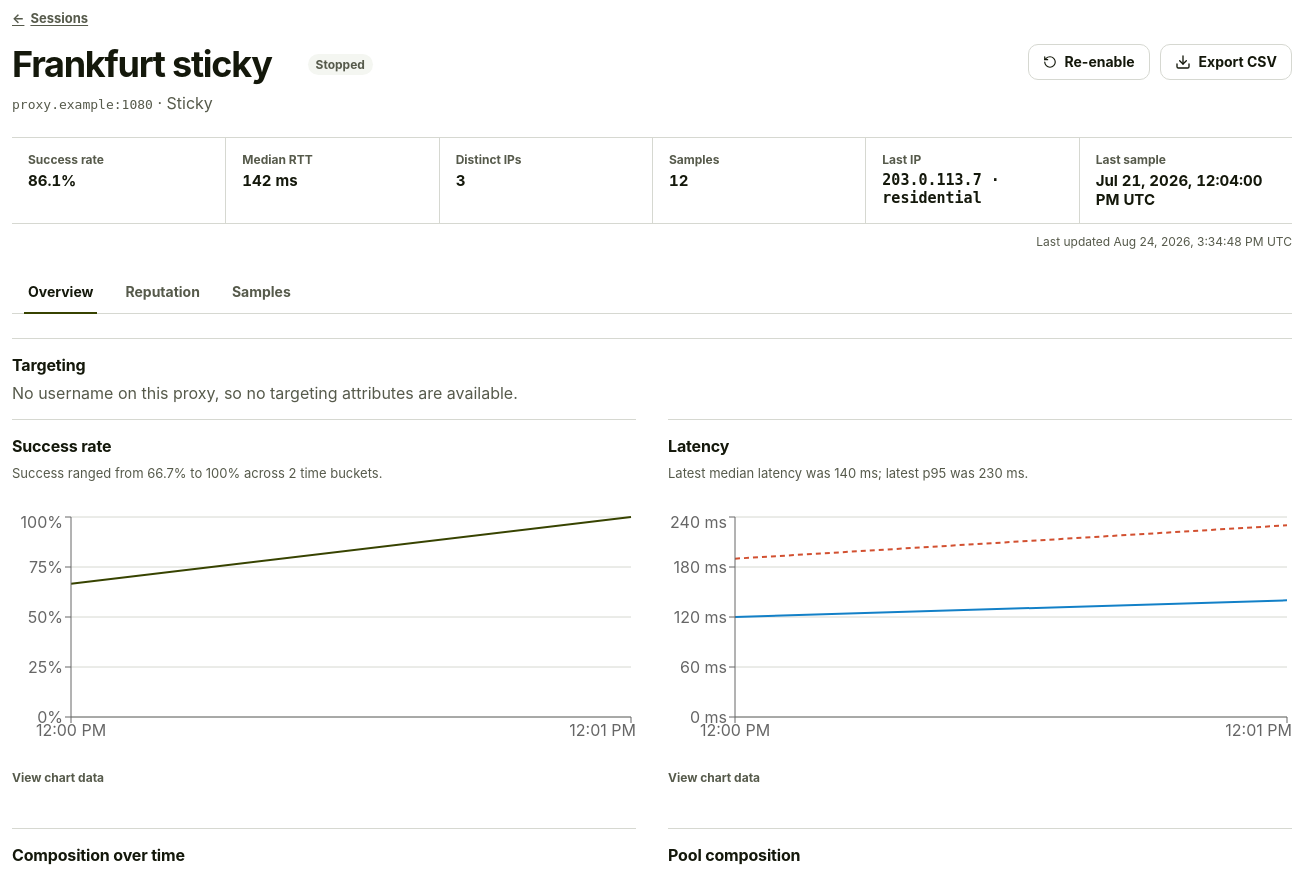
SessionPage › offers re-enable for a stopped session, confirms, and invalidates queries
What coordinates should you click on to do the following:
click the button "Re-enable"
I would click on:
 (1089, 62)
Its box is top-left (1028, 44), bottom-right (1150, 80).
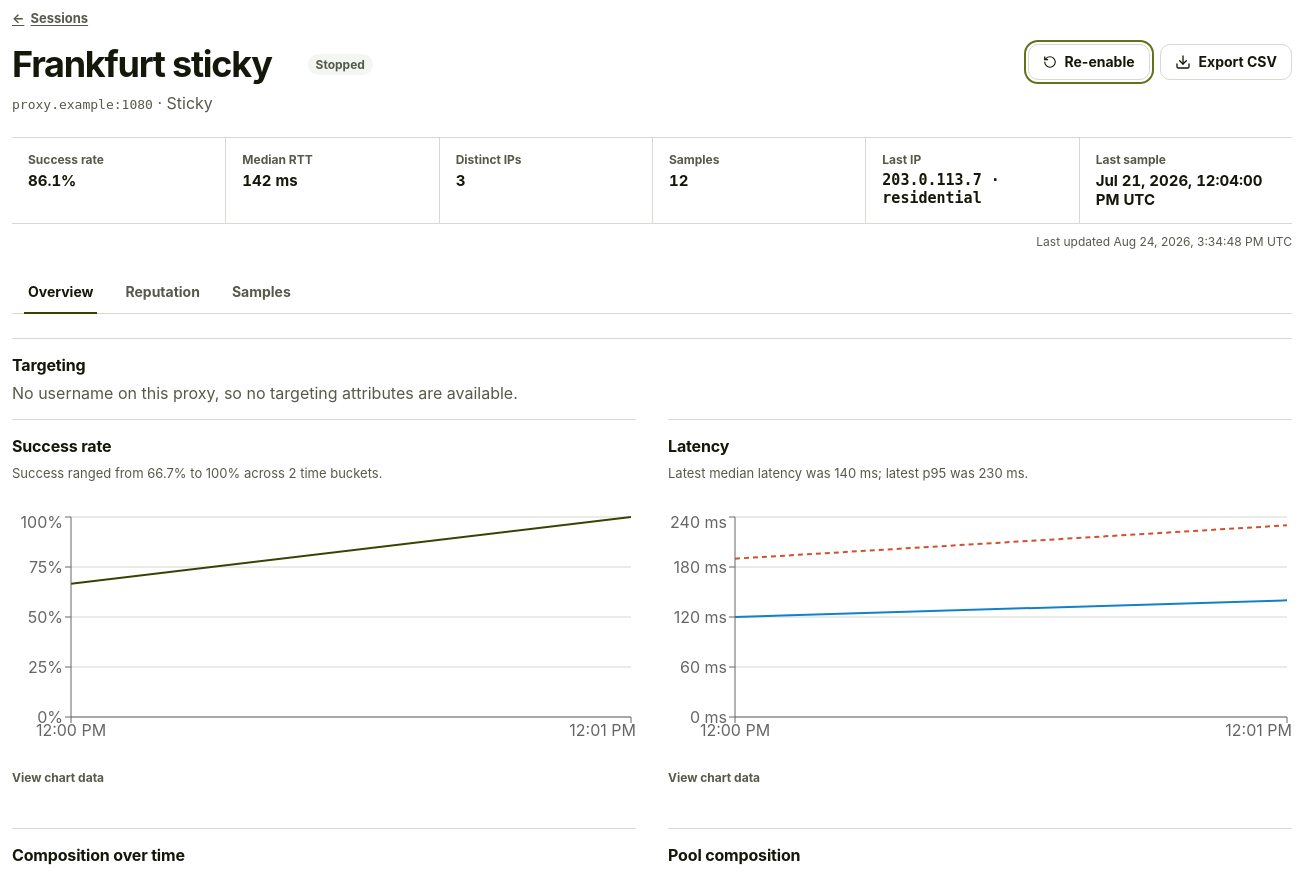
What coordinates should you click on to do the following:
click the button "Re-enable"
I would click on:
 (1089, 62)
Its box is top-left (1028, 44), bottom-right (1150, 80).
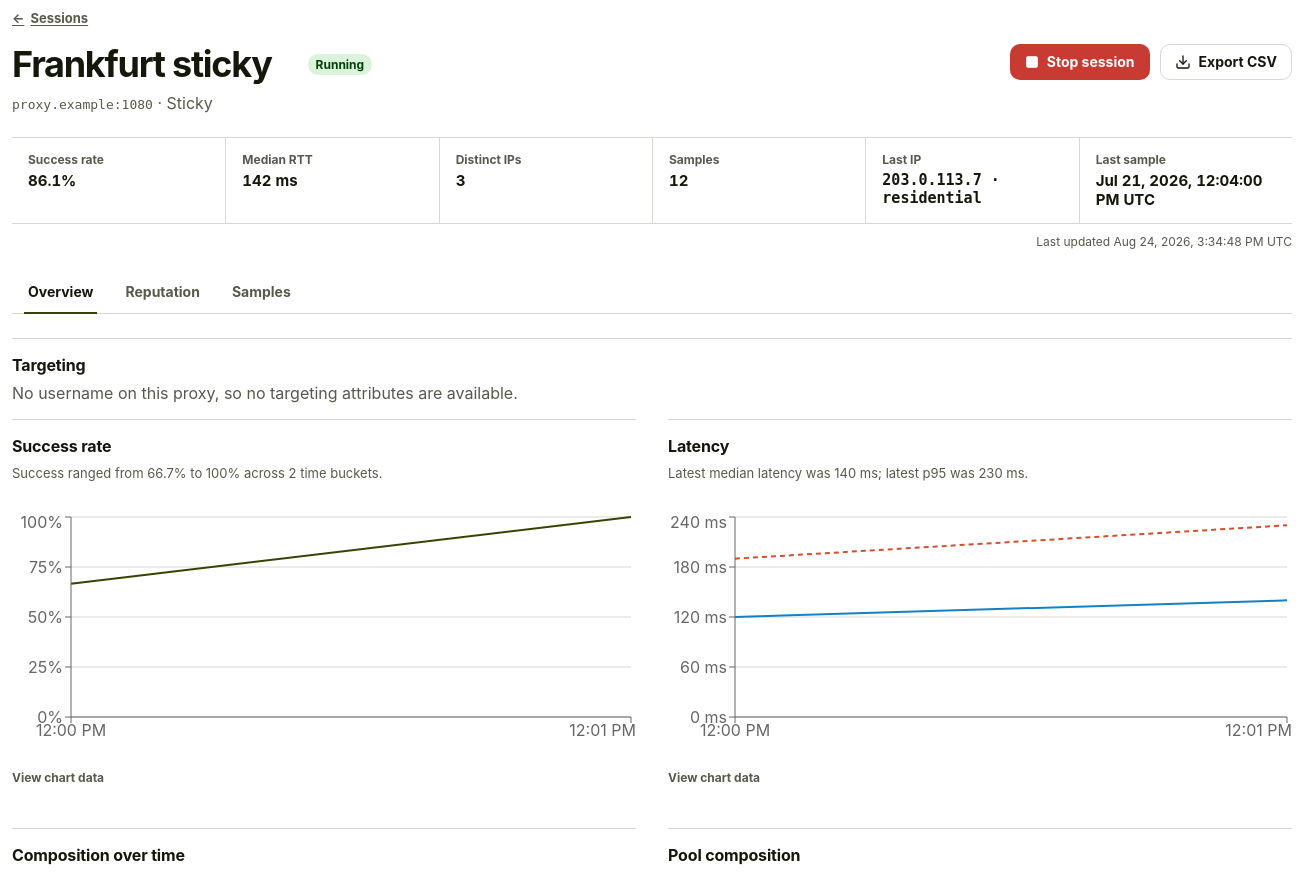
Expected: the text "Running" is shown, top-left (308, 54), bottom-right (372, 75)
